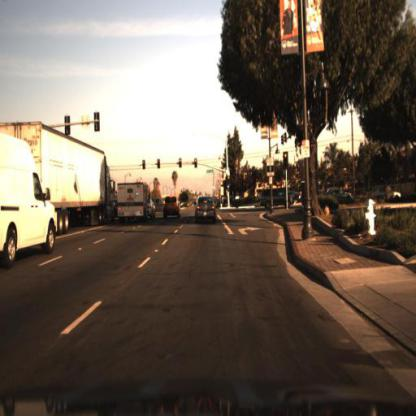car: (1, 132, 64, 275), (115, 180, 150, 233), (320, 184, 354, 213), (193, 196, 218, 225), (161, 193, 184, 223), (155, 195, 165, 220), (148, 197, 157, 222)
trafficLight-Red: (282, 151, 292, 167), (192, 153, 200, 168), (140, 157, 148, 171), (178, 155, 184, 167), (142, 160, 147, 172), (157, 156, 162, 168), (157, 159, 162, 171), (179, 157, 184, 169), (194, 157, 199, 169), (227, 171, 232, 183)
truck: (27, 117, 120, 229)
